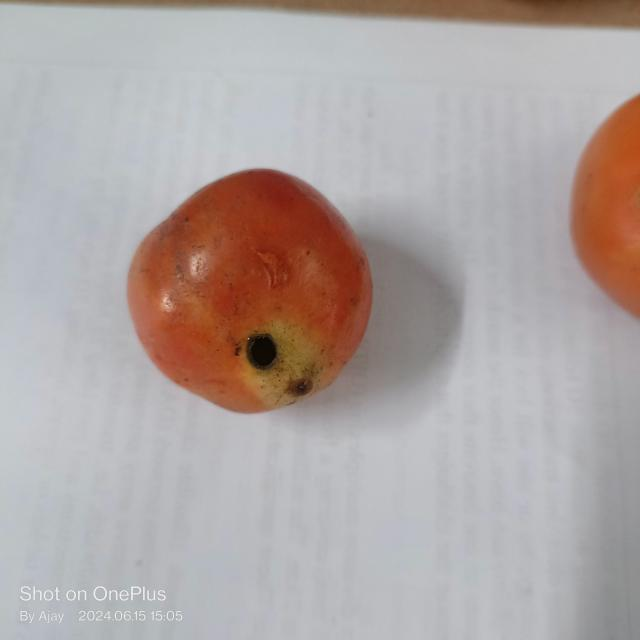fruitworm_bore: (243, 331, 277, 372)
